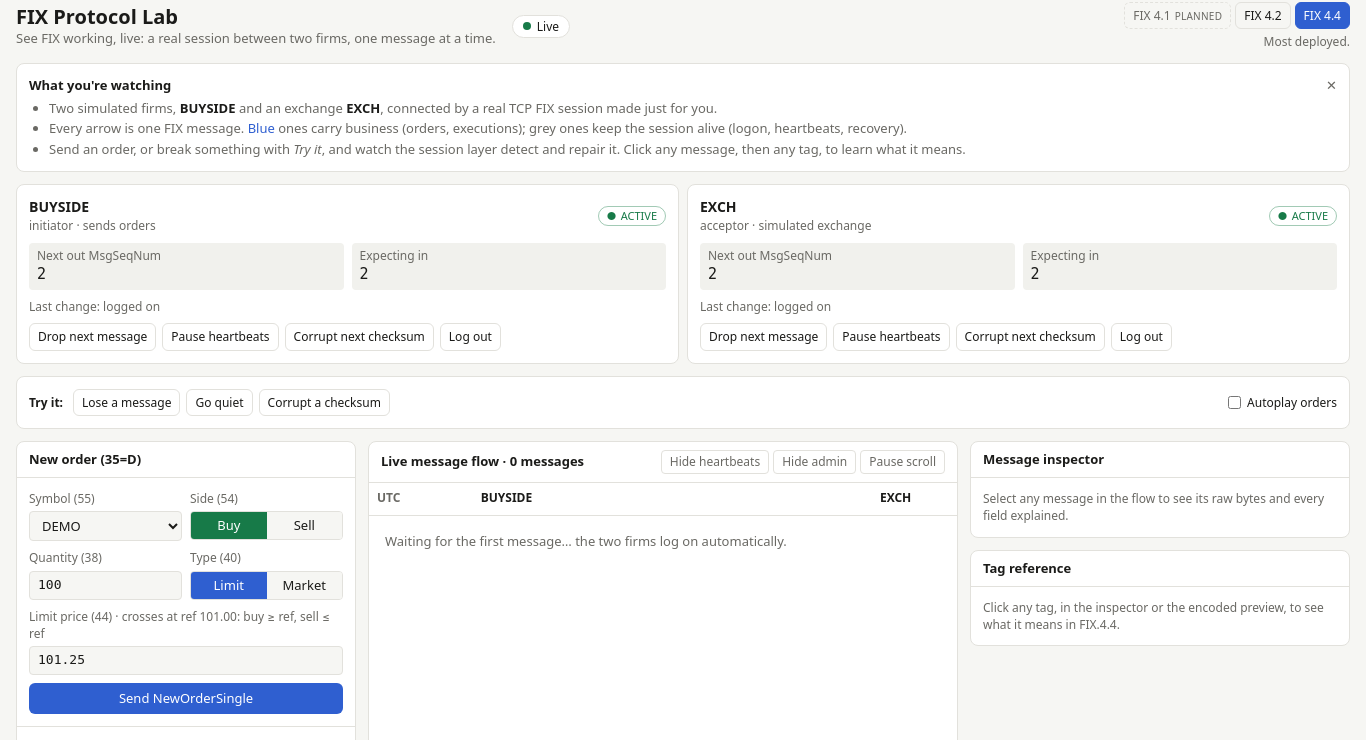
it: order entry › order form shows live encoded preview
The image size is (1366, 740).
Replace the text in the field labelled "Quantity (38)" with "12345" at (106, 585), box [29, 571, 182, 600]
(page scrolled)
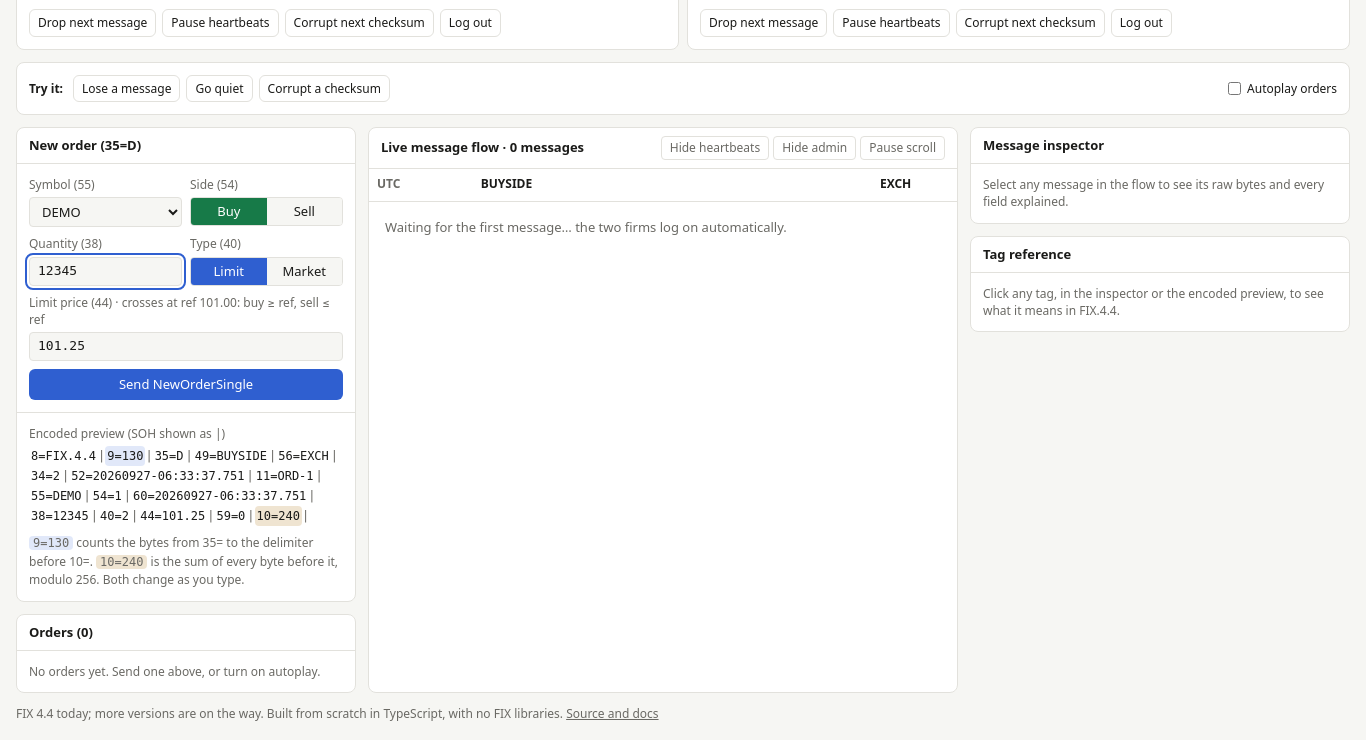
Expected: the element with test id "encoded-preview" shows "38=12345", [29, 506, 91, 526]
